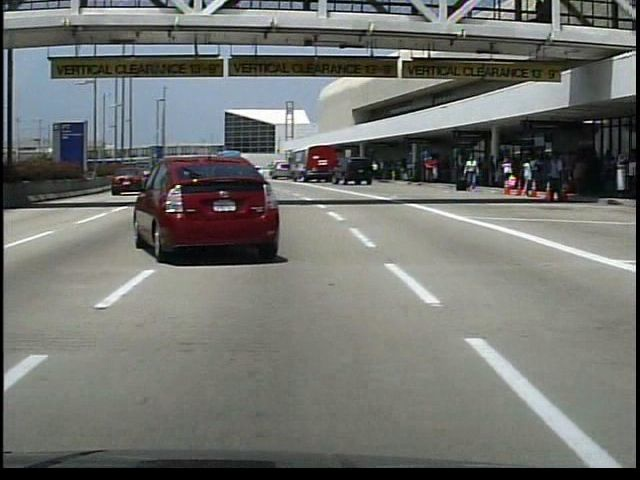person: (542, 153, 563, 206), (463, 155, 481, 194), (424, 155, 438, 184), (370, 162, 381, 181)
